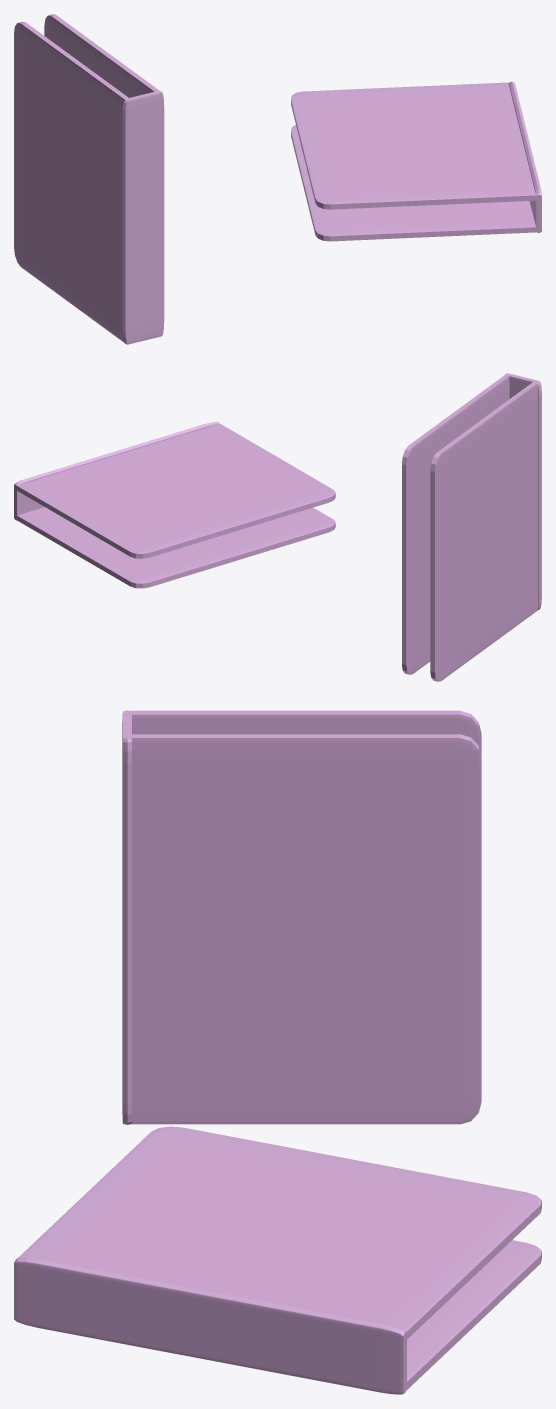
The model's file is pinkbooks.glb.
3 views of the same model, one above another, from view 1: azimuth 30°, elevation 25°; view 2: azimuth 150°, elevation 25°; view 3: azimuth 270°, elevation 25° (orthographic). The views are drawn at different scales.
Visible parts, largest first — view 1: Cube.008, Cube.013; view 2: Cube.008, Cube.013; view 3: Cube.008, Cube.013.
Boxes of the visible parts, left/top/right/bottom form: Cube.008: left=14, top=14, right=164, bottom=344; Cube.013: left=291, top=81, right=541, bottom=241; Cube.008: left=402, top=373, right=541, bottom=681; Cube.013: left=14, top=421, right=335, bottom=588; Cube.008: left=122, top=710, right=481, bottom=1124; Cube.013: left=14, top=1126, right=541, bottom=1394.
Bounding box in the file's own units: 1.25 × 0.6077 × 0.7528.
